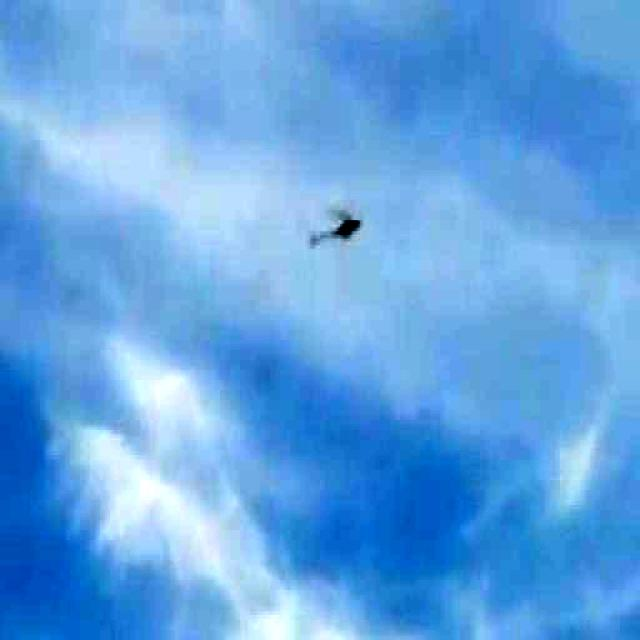drone: (304, 190, 368, 268)
